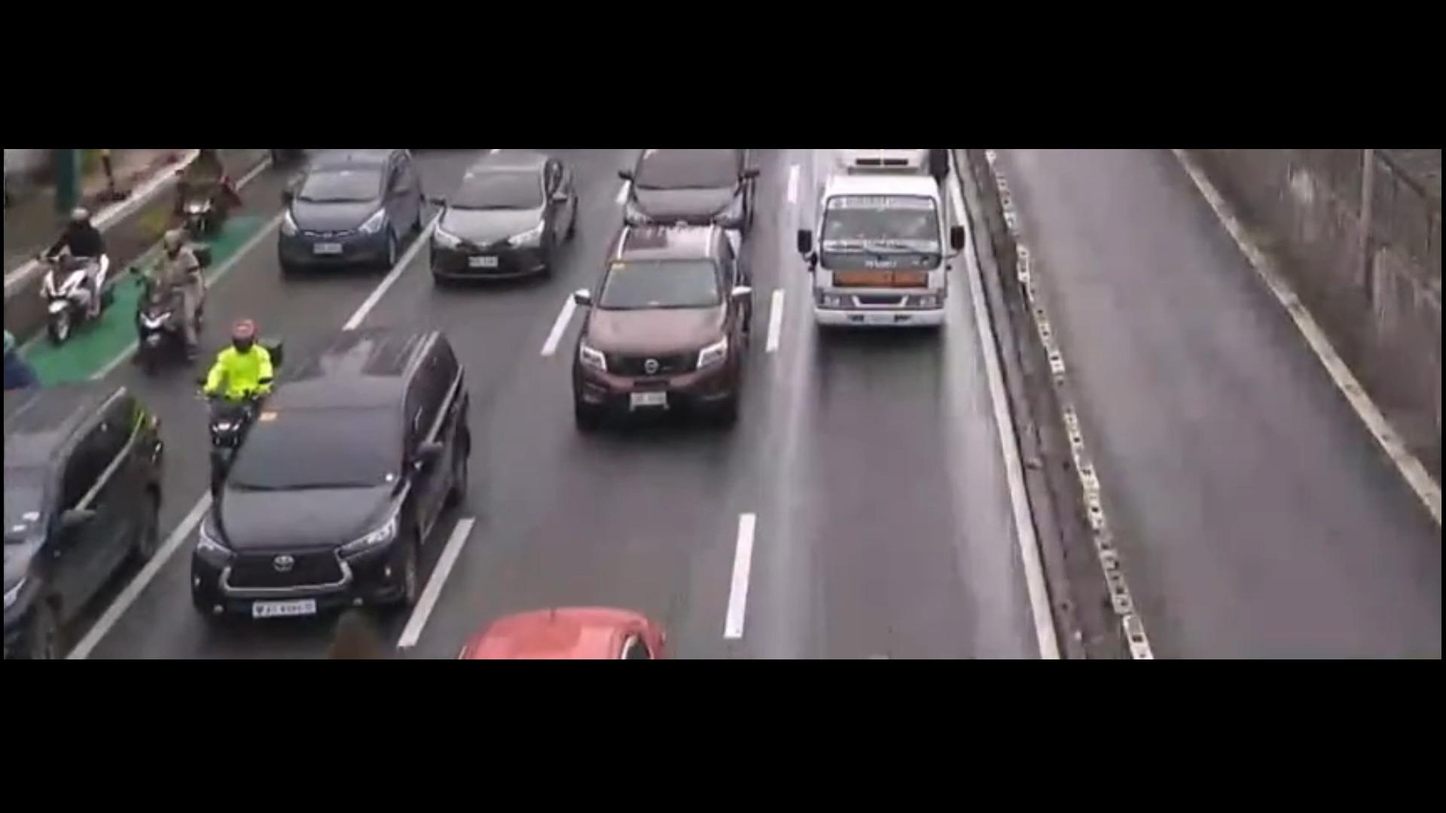Motorcycle: (13, 190, 134, 343), (181, 298, 285, 476), (104, 209, 228, 351), (160, 147, 230, 237)
SUV: (194, 328, 499, 633), (0, 367, 174, 676), (547, 219, 759, 441)
Sedan: (428, 140, 578, 298), (256, 145, 411, 273), (613, 145, 765, 229)
Truck: (794, 136, 955, 351)
